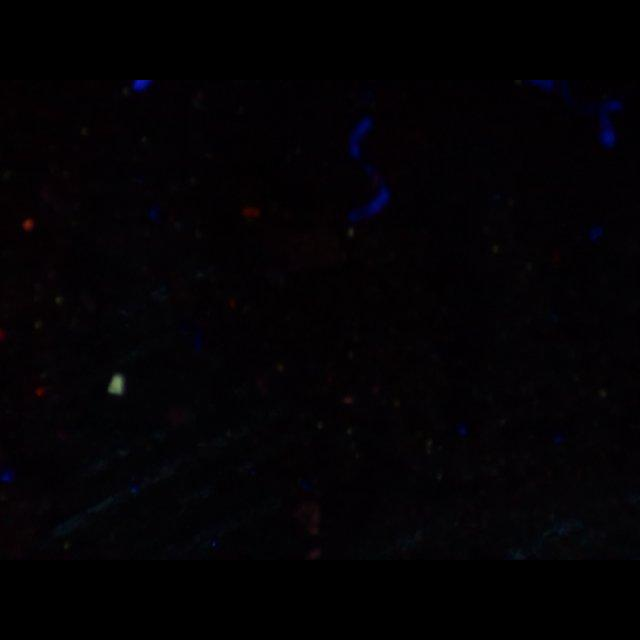microbeads: (108, 374, 124, 394)
